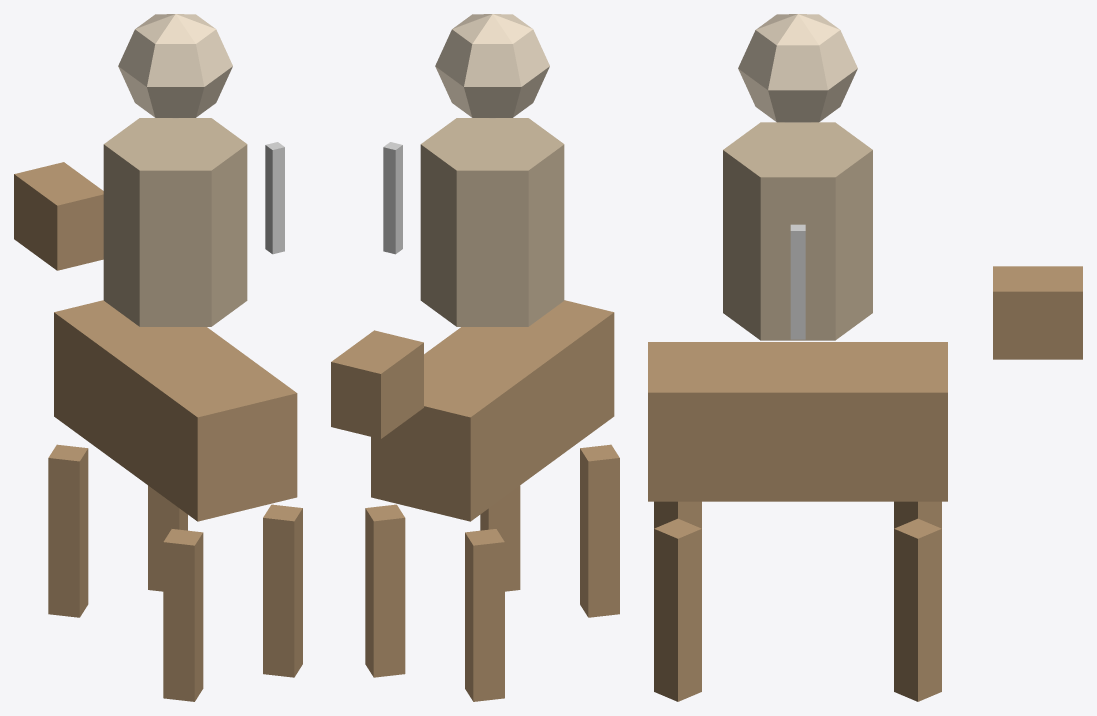
The model's file is cavalry.glb.
3 renders of one model, left to right at view 1: azimuth 30°, elevation 25°; view 2: azimuth 150°, elevation 25°; view 3: azimuth 270°, elevation 25°, orthographic. The views are drawn at different scales.
Visible parts, largest first — view 1: hbody, rtorso, rhead, hhead, hl0.04, hl-0.04, hr-0.04, hr0.04, sword; view 2: hbody, rtorso, rhead, hhead, hr0.04, hl-0.04, hl0.04, hr-0.04, sword; view 3: hbody, rtorso, rhead, hhead, hr0.04, hr-0.04, sword, hl-0.04, hl0.04.
Boxes of the visible parts, <box> form: hbody: <box>54,300,297,521</box>; rtorso: <box>103,118,247,326</box>; rhead: <box>118,14,232,118</box>; hhead: <box>14,162,103,270</box>; hl0.04: <box>48,444,88,617</box>; hl-0.04: <box>163,529,203,701</box>; hr-0.04: <box>263,504,302,677</box>; hr0.04: <box>148,485,187,591</box>; sword: <box>265,142,284,254</box>; hbody: <box>371,300,614,521</box>; rtorso: <box>420,118,564,326</box>; rhead: <box>435,14,549,118</box>; hhead: <box>331,330,423,438</box>; hr0.04: <box>365,504,405,677</box>; hl-0.04: <box>580,444,619,617</box>; hl0.04: <box>465,529,504,701</box>; hr-0.04: <box>480,485,520,591</box>; sword: <box>383,142,402,254</box>; hbody: <box>648,342,947,501</box>; rtorso: <box>723,122,872,340</box>; rhead: <box>738,14,857,122</box>; hhead: <box>993,266,1082,359</box>; hr0.04: <box>894,518,941,701</box>; hr-0.04: <box>654,518,701,701</box>; sword: <box>790,224,805,339</box>; hl-0.04: <box>654,501,701,528</box>; hl0.04: <box>894,501,941,528</box>.
Size of the model in its own units: 0.0705 by 0.24 by 0.145.
